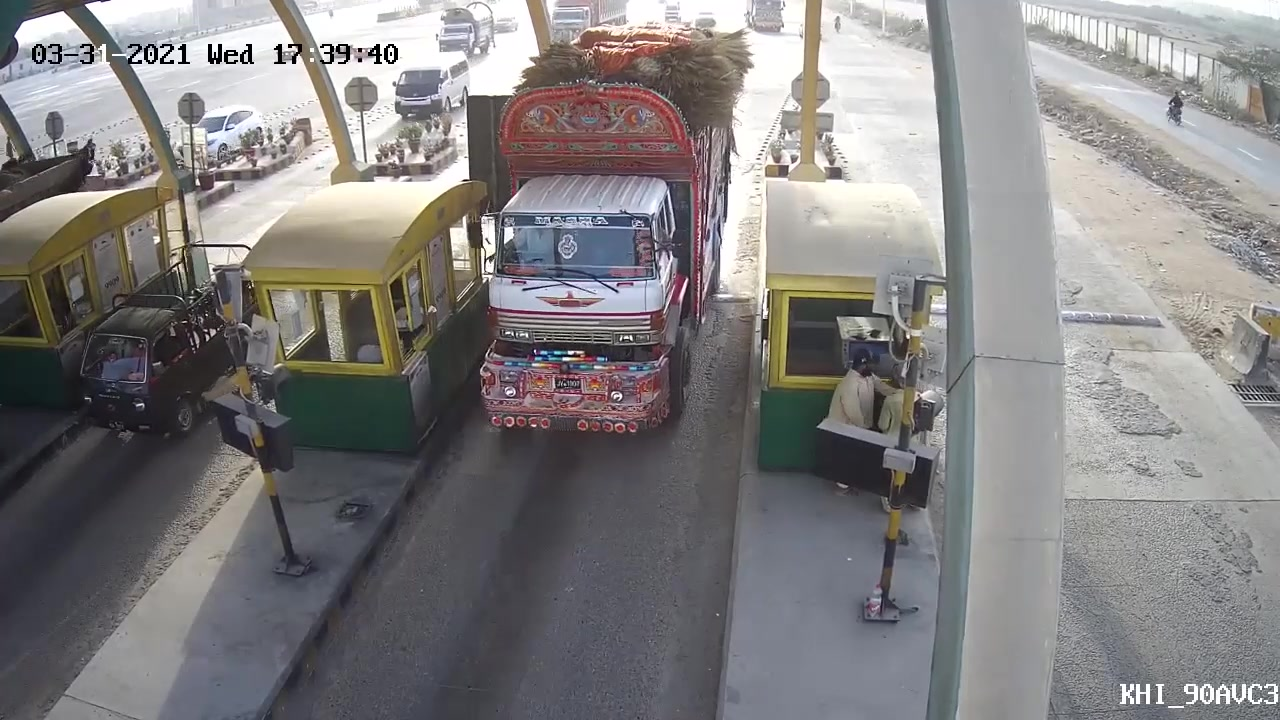F5: (466, 17, 756, 460)
